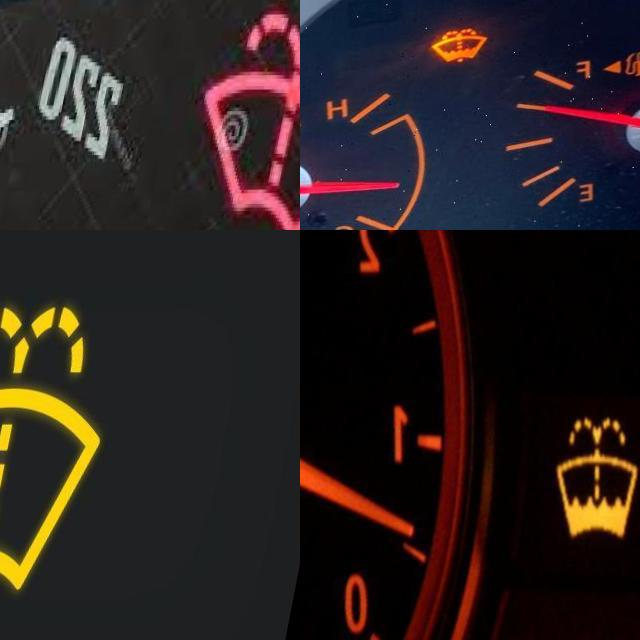Washer Fluid: (199, 10, 300, 230), (557, 416, 640, 540), (438, 22, 506, 67)
